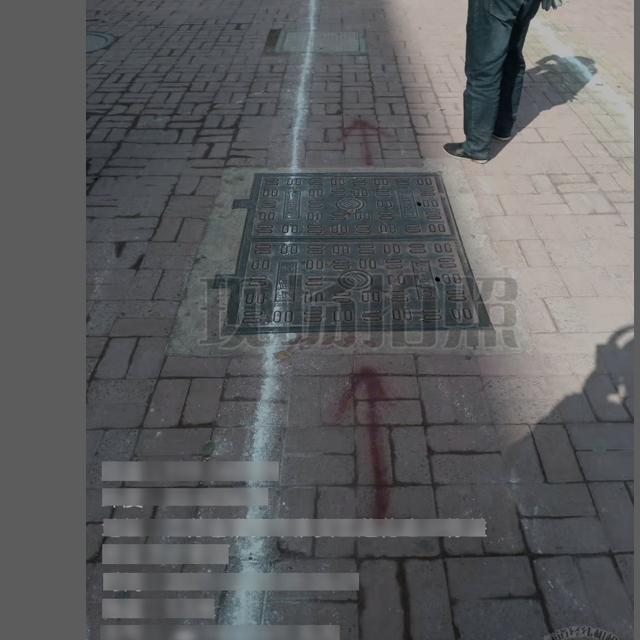good: (211, 167, 497, 333), (272, 26, 366, 53)
